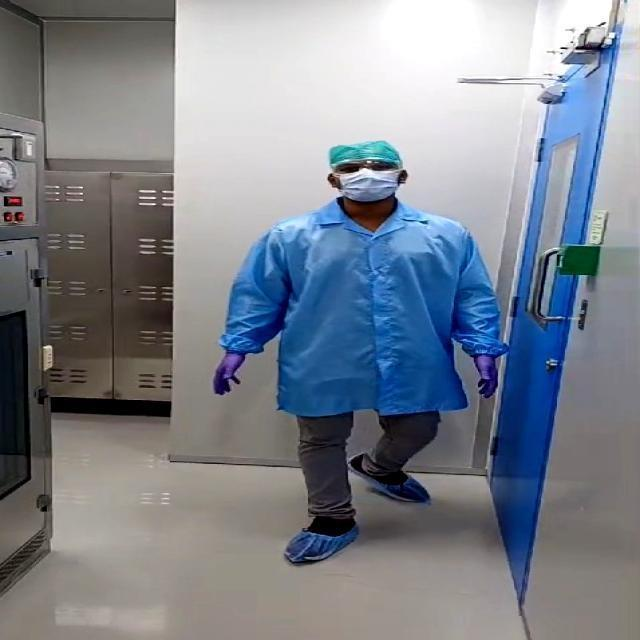apron: (208, 348, 252, 400), (470, 354, 508, 396)
